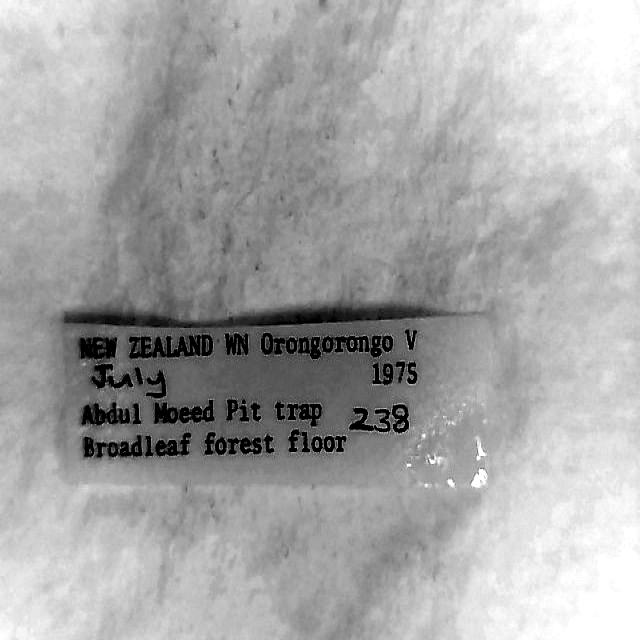mixed_label: (65, 315, 489, 488)
